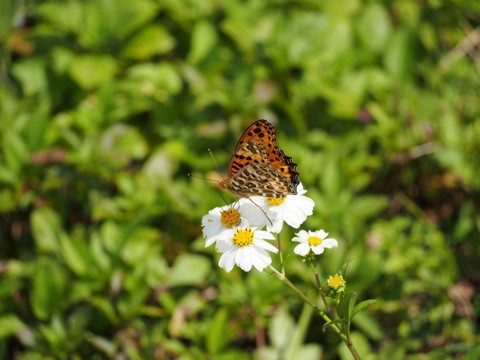Argyreus hyperbius: (183, 118, 303, 222)
butterfly: (185, 120, 305, 224)
